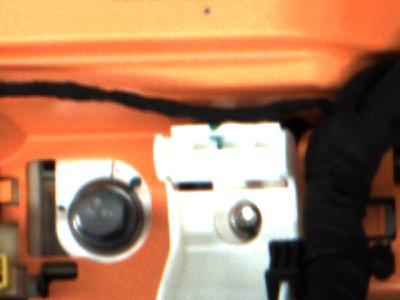nut_b: (66, 172, 147, 252)
